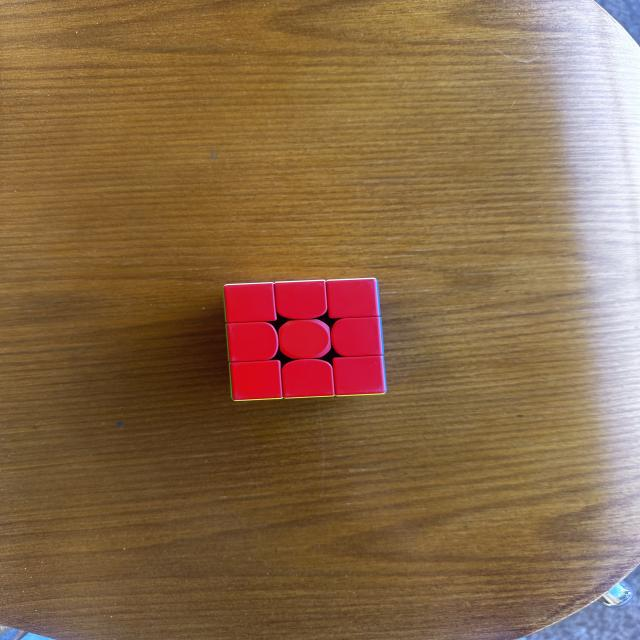sticker: (330, 353, 388, 398), (322, 277, 381, 321), (227, 358, 286, 402), (222, 281, 279, 325), (329, 315, 386, 359), (272, 279, 330, 322), (224, 320, 281, 363), (280, 357, 337, 400), (276, 318, 333, 361)
